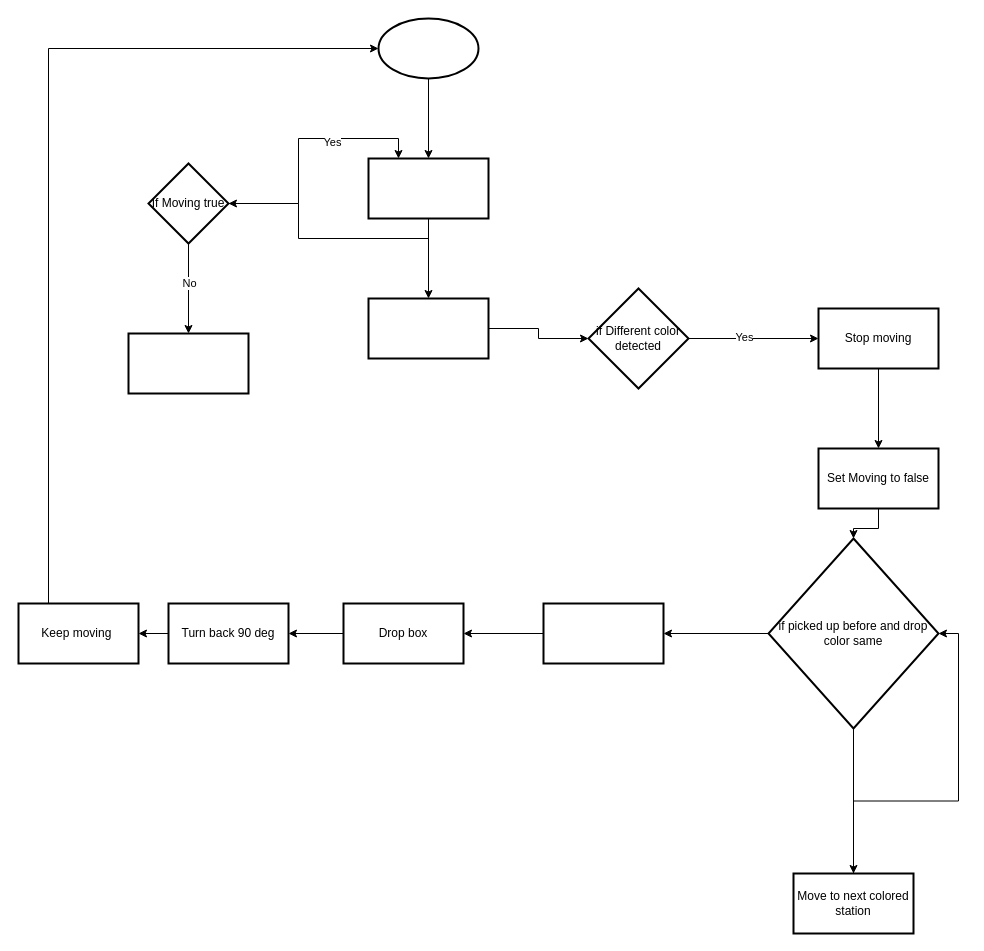
Some shapes in this 984 by 951 pixel diagram are drawn without their labels. Each missing label, with the box of its shape:
Detection: (367, 297, 489, 359)
Moving: (367, 157, 489, 219)
Start: (377, 17, 479, 79)
Turn 90 degs to drop area: (542, 602, 664, 664)
void (say stopped moving) wait for next start: (127, 332, 249, 394)
